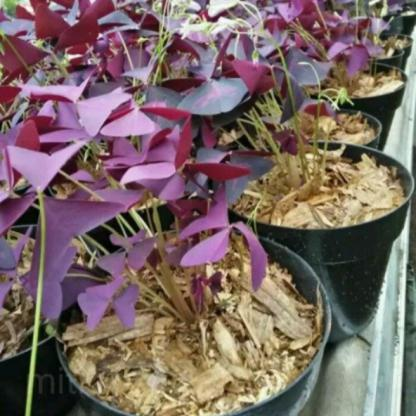Kupu-Kupu: (11, 77, 121, 188), (170, 186, 268, 283), (113, 124, 226, 190), (76, 227, 147, 330)
